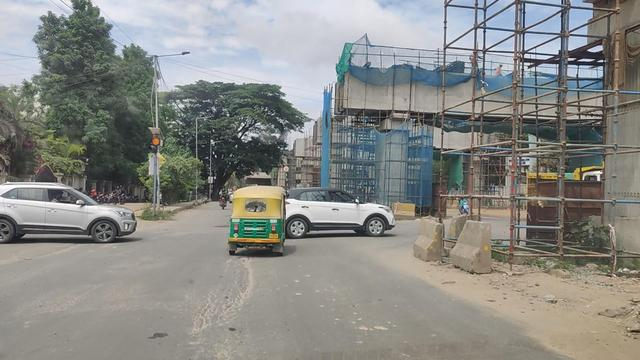LMV: (1, 182, 125, 242), (287, 190, 393, 238), (229, 187, 283, 253)
RoadDamages: (196, 256, 249, 336)
